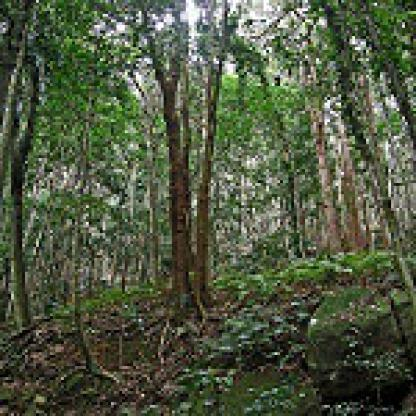trunk: (0, 0, 36, 330), (150, 66, 194, 310), (191, 58, 219, 305)
